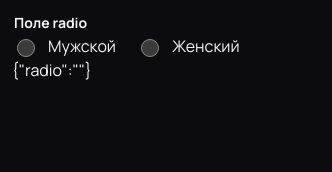
Test: DynamicField — сам выбирает элемент по типу поля › radio → группа вариантов с подписью
Expected: the element "Поле radio" is shown, [14,13,240,57]
Click the radio button labelled "Женский": (150, 48) [141,39,159,57]
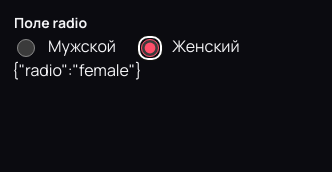
Expected: the text with test id "values" shows "\"radio\":\"female\"", [12,60,142,82]
